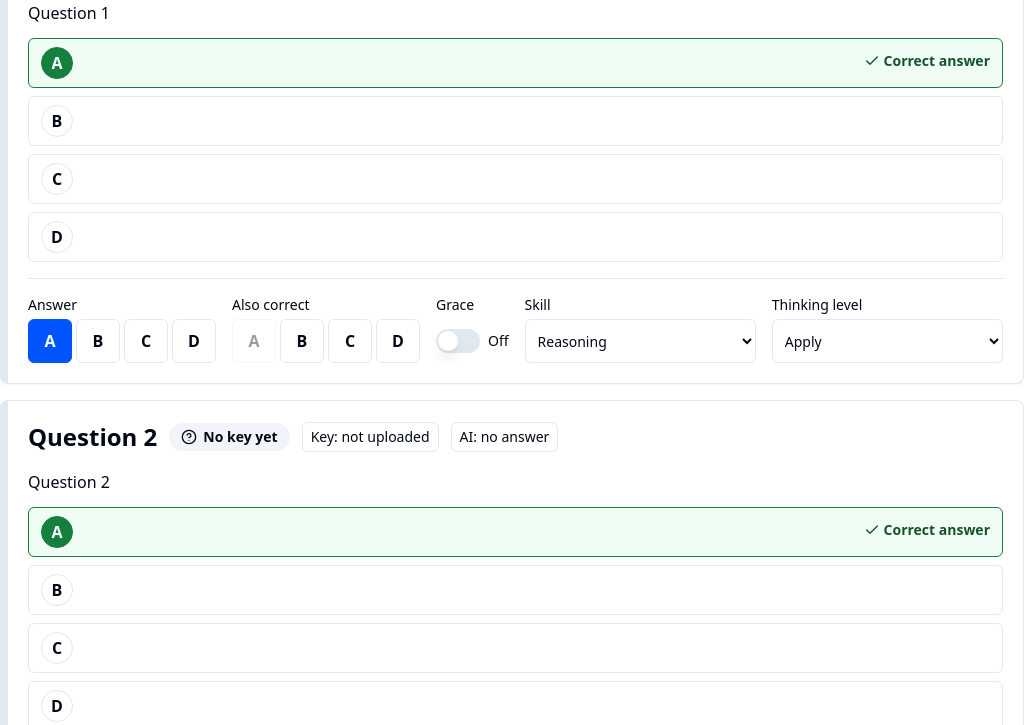
Test: PaperEditor › disables Analyse while there are unsaved edits
The image size is (1024, 725).
(page scrolled)
Click the switch named "Grace for question 1" at (458, 341), box [436, 329, 480, 353]
(page scrolled)
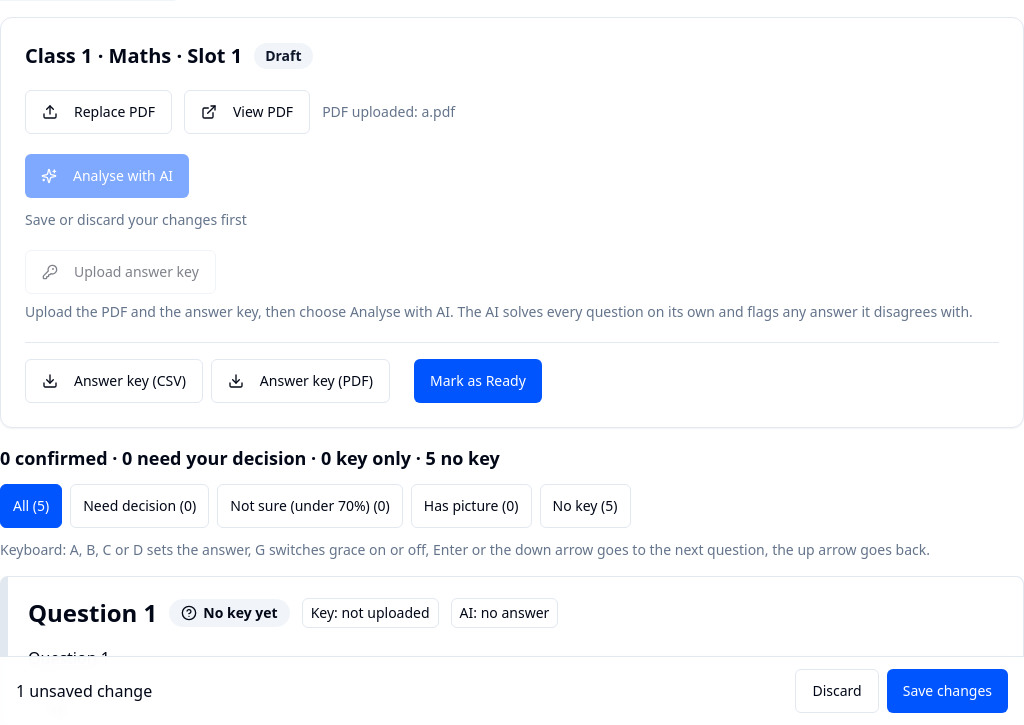
Result: the button "Analyse with AI" is disabled at [25, 154, 189, 198]
Result: the text "Save or discard your changes first" is shown at [25, 210, 247, 229]
